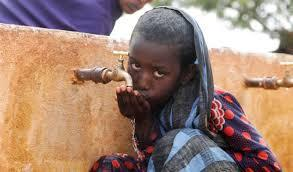Persons: (124, 6, 207, 117)
